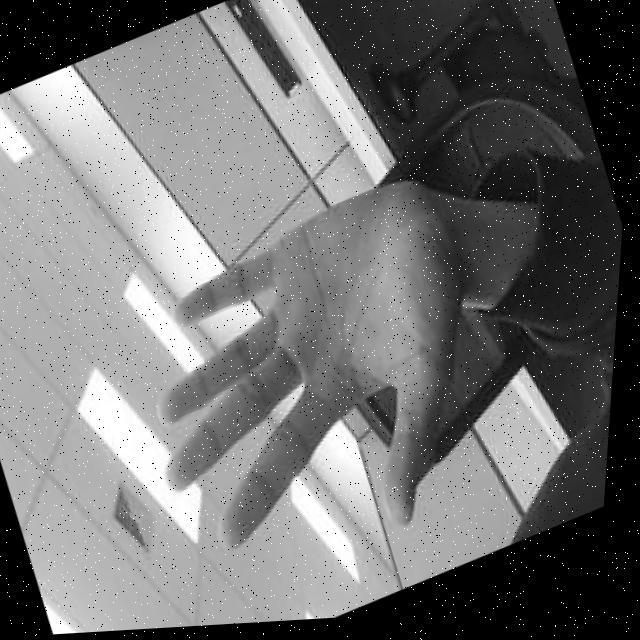no-gloves: (98, 158, 544, 618)
